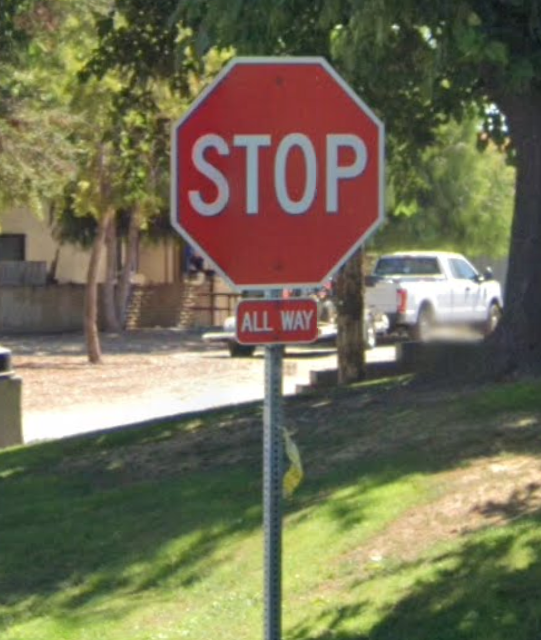stop_sign: (175, 57, 385, 288)
